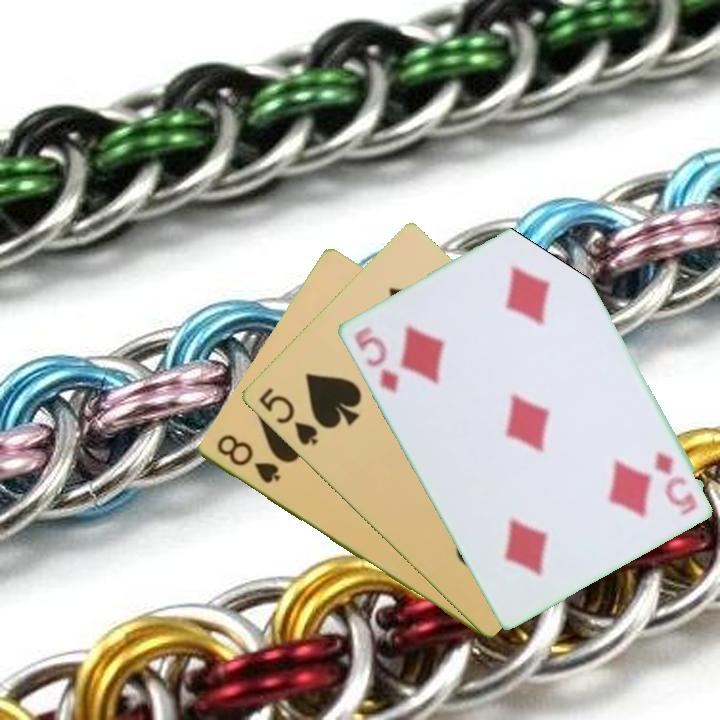5d: (350, 322, 401, 397), (650, 447, 692, 510)
5s: (254, 384, 321, 449)
8s: (212, 431, 283, 487)
